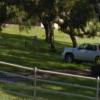Tree: (18, 0, 100, 35)
